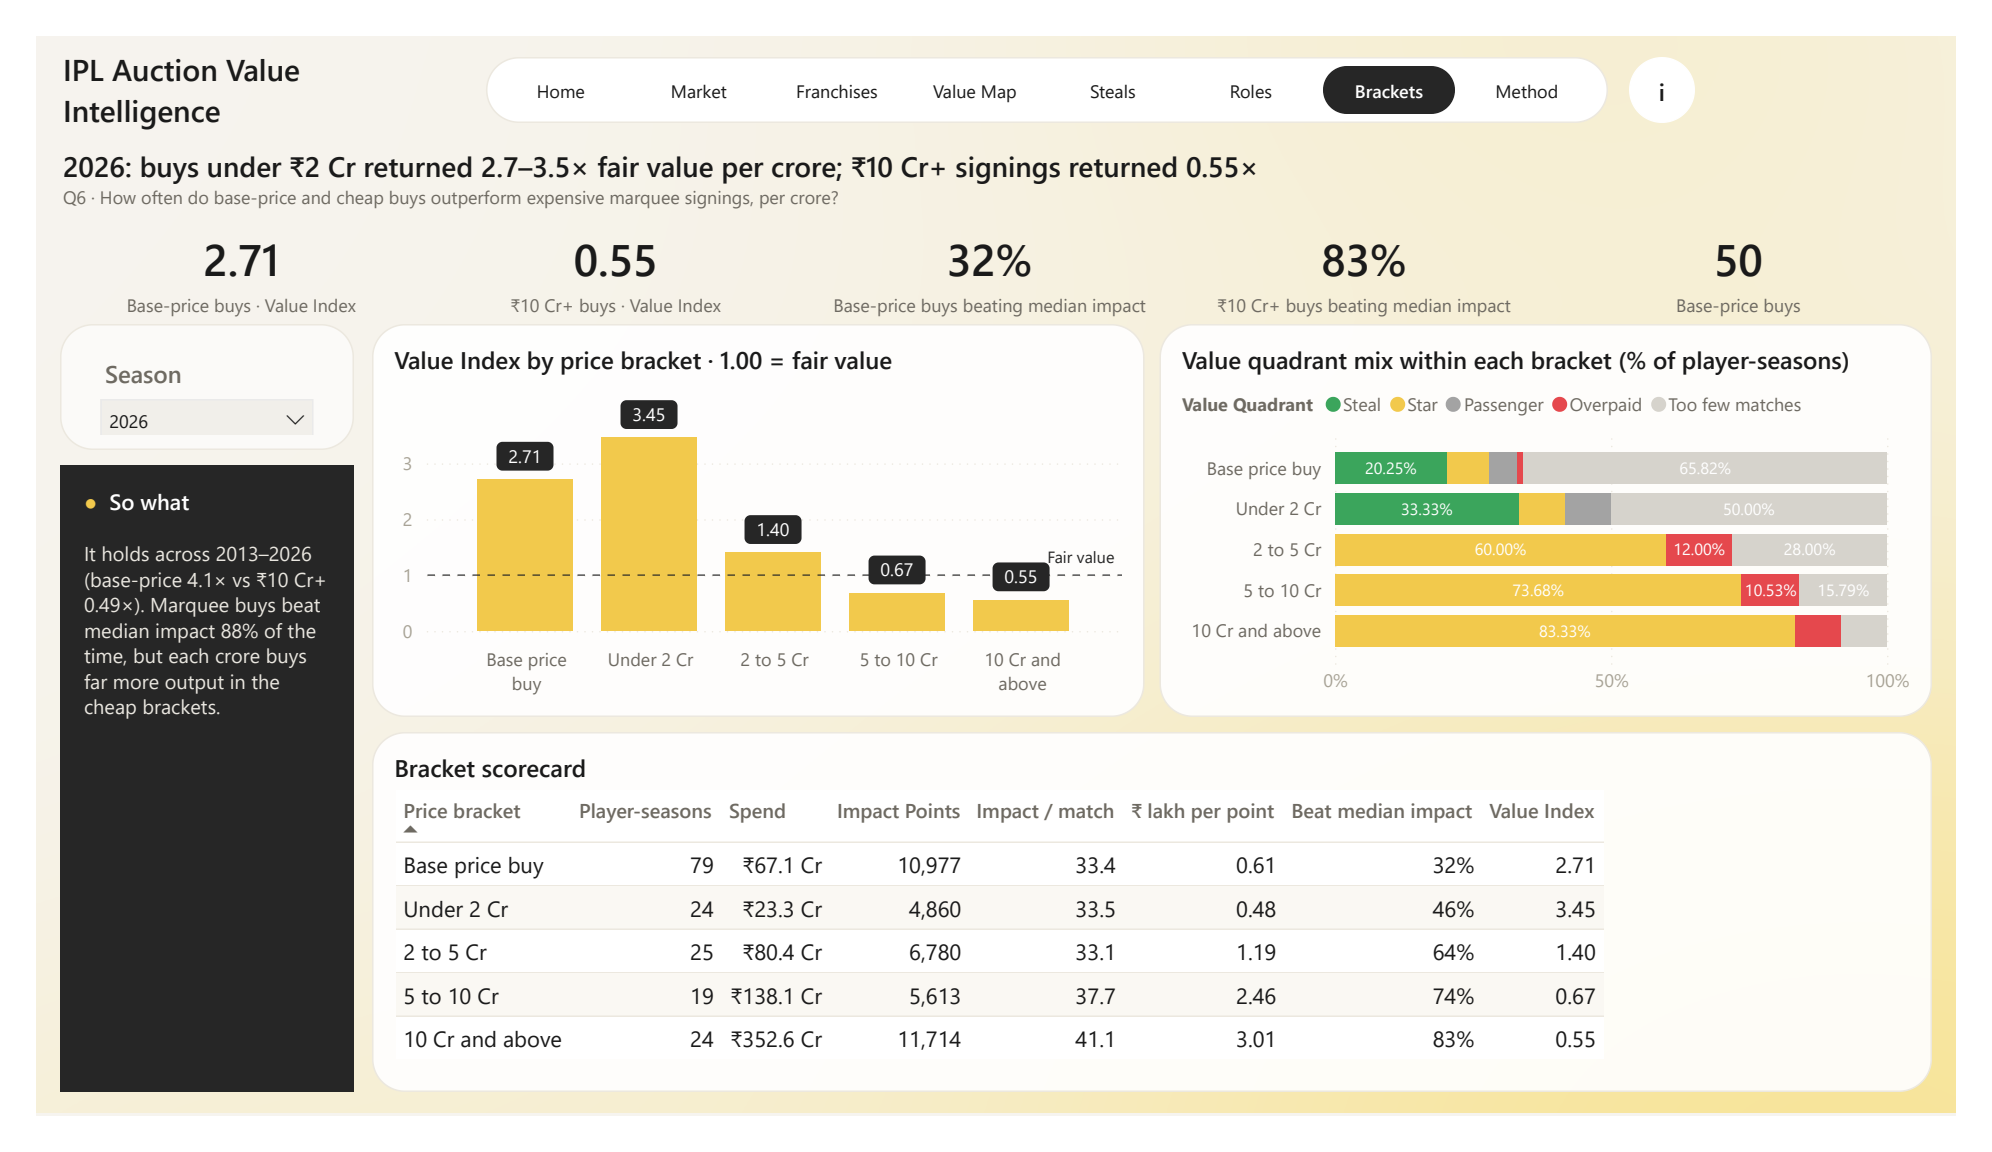

The page's visual inventory and layout, read from the dashboard file:
{"tool":"powerbi","page":{"name":"6 Price Brackets","canvas":[1280,720],"ordinal":6},"visuals":[{"type":"textbox","box":[16,8,270,66],"z":1000},{"type":"textbox","box":[300,14,748,44],"z":2000},{"type":"actionButton","title":"Home","box":[306,20,88,32],"z":3000},{"type":"actionButton","title":"Market","box":[398,20,88,32],"z":4000},{"type":"actionButton","title":"Franchises","box":[490,20,88,32],"z":5000},{"type":"actionButton","title":"Value Map","box":[582,20,88,32],"z":6000},{"type":"actionButton","title":"Steals","box":[674,20,88,32],"z":7000},{"type":"actionButton","title":"Roles","box":[766,20,88,32],"z":8000},{"type":"actionButton","title":"Brackets","box":[858,20,88,32],"z":9000},{"type":"actionButton","title":"Method","box":[950,20,88,32],"z":10000},{"type":"actionButton","title":"i","box":[1062,14,44,44],"z":11000},{"type":"textbox","box":[16,74,1248,50],"z":12000},{"type":"card","fields":{"Values":["_Measures.Base Price Value Index"]},"box":[16,126,241.6,62],"z":13000},{"type":"card","fields":{"Values":["_Measures.Marquee Value Index"]},"box":[265.6,126,241.6,62],"z":14000},{"type":"card","fields":{"Values":["_Measures.Base Price Above Median %"]},"box":[515.2,126,241.6,62],"z":15000},{"type":"card","fields":{"Values":["_Measures.Marquee Above Median %"]},"box":[764.8,126,241.6,62],"z":16000},{"type":"card","fields":{"Values":["_Measures.Base Price Buys"]},"box":[1014.4,126,241.6,62],"z":17000},{"type":"textbox","box":[16,192,196,84],"z":18000},{"type":"slicer","fields":{"Values":["DimSeason.Season"]},"box":[24,202,180,64],"z":19000},{"type":"textbox","box":[16,286,196,418],"z":20000},{"type":"clusteredColumnChart","title":"Value Index by price bracket · 1.00 = fair value","fields":{"Category":["FactPlayerSeason.PriceBracket"],"Y":["_Measures.Value Index"]},"box":[224,192,515,262],"z":21000},{"type":"hundredPercentStackedBarChart","title":"Value quadrant mix within each bracket (% of player-seasons)","fields":{"Category":["FactPlayerSeason.PriceBracket"],"Series":["FactPlayerSeason.Value Quadrant"],"Y":["_Measures.Player Seasons"]},"box":[749,192,515,262],"z":22000},{"type":"tableEx","title":"Bracket scorecard","fields":{"Values":["FactPlayerSeason.PriceBracket","_Measures.Player Seasons","_Measures.Spend Cr","_Measures.Priced Impact","_Measures.Impact per Match","_Measures.Lakh per Point","_Measures.Above Median Impact %","_Measures.Value Index"]},"box":[224,464,1040,240],"z":23000}]}

Visuals, with their boxes in screenshot pixels (x1, y1, x2, y2), scaled from the page's 1280x720 canvas onto the 1992x1152 screenshot:
textbox: bbox=(25, 13, 445, 118)
textbox: bbox=(467, 22, 1631, 93)
"Home" actionButton: bbox=(476, 32, 613, 83)
"Market" actionButton: bbox=(619, 32, 756, 83)
"Franchises" actionButton: bbox=(763, 32, 900, 83)
"Value Map" actionButton: bbox=(906, 32, 1043, 83)
"Steals" actionButton: bbox=(1049, 32, 1186, 83)
"Roles" actionButton: bbox=(1192, 32, 1329, 83)
"Brackets" actionButton: bbox=(1335, 32, 1472, 83)
"Method" actionButton: bbox=(1478, 32, 1615, 83)
"i" actionButton: bbox=(1653, 22, 1721, 93)
textbox: bbox=(25, 118, 1967, 198)
card - _Measures.Base Price Value Index: bbox=(25, 202, 401, 301)
card - _Measures.Marquee Value Index: bbox=(413, 202, 789, 301)
card - _Measures.Base Price Above Median %: bbox=(802, 202, 1178, 301)
card - _Measures.Marquee Above Median %: bbox=(1190, 202, 1566, 301)
card - _Measures.Base Price Buys: bbox=(1579, 202, 1955, 301)
textbox: bbox=(25, 307, 330, 442)
slicer - DimSeason.Season: bbox=(37, 323, 317, 426)
textbox: bbox=(25, 458, 330, 1126)
"Value Index by price bracket · 1.00 = fair value" clusteredColumnChart: bbox=(349, 307, 1150, 726)
"Value quadrant mix within each bracket (% of player-seasons)" hundredPercentStackedBarChart: bbox=(1166, 307, 1967, 726)
"Bracket scorecard" tableEx: bbox=(349, 742, 1967, 1126)
